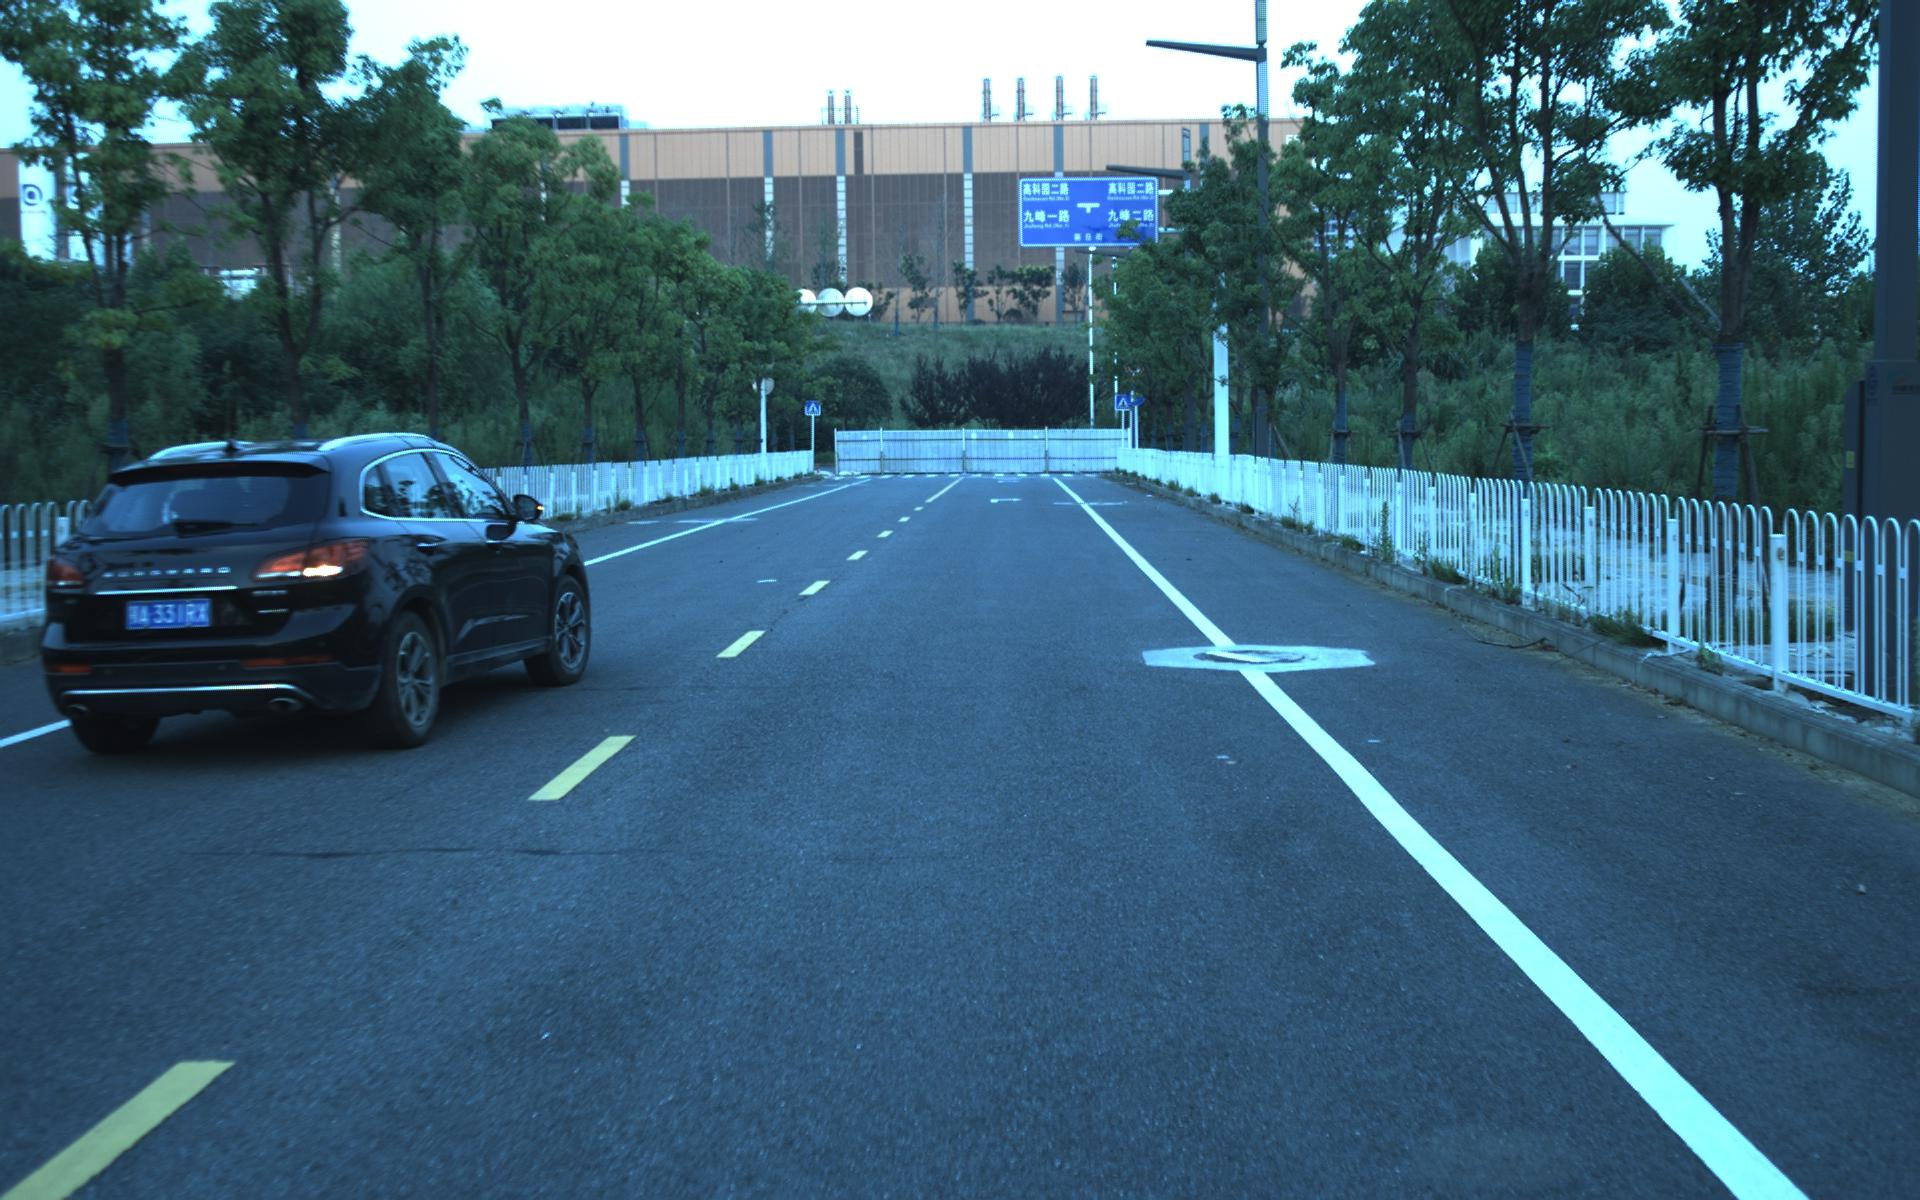Car: (19, 412, 597, 763)
